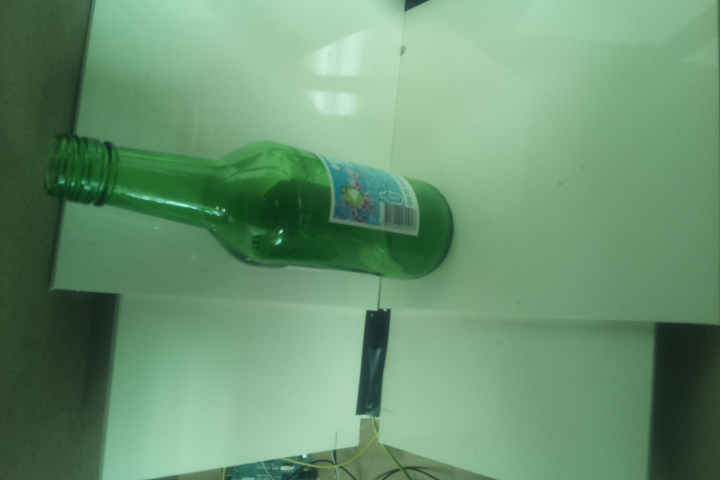soju: (44, 130, 454, 285)
